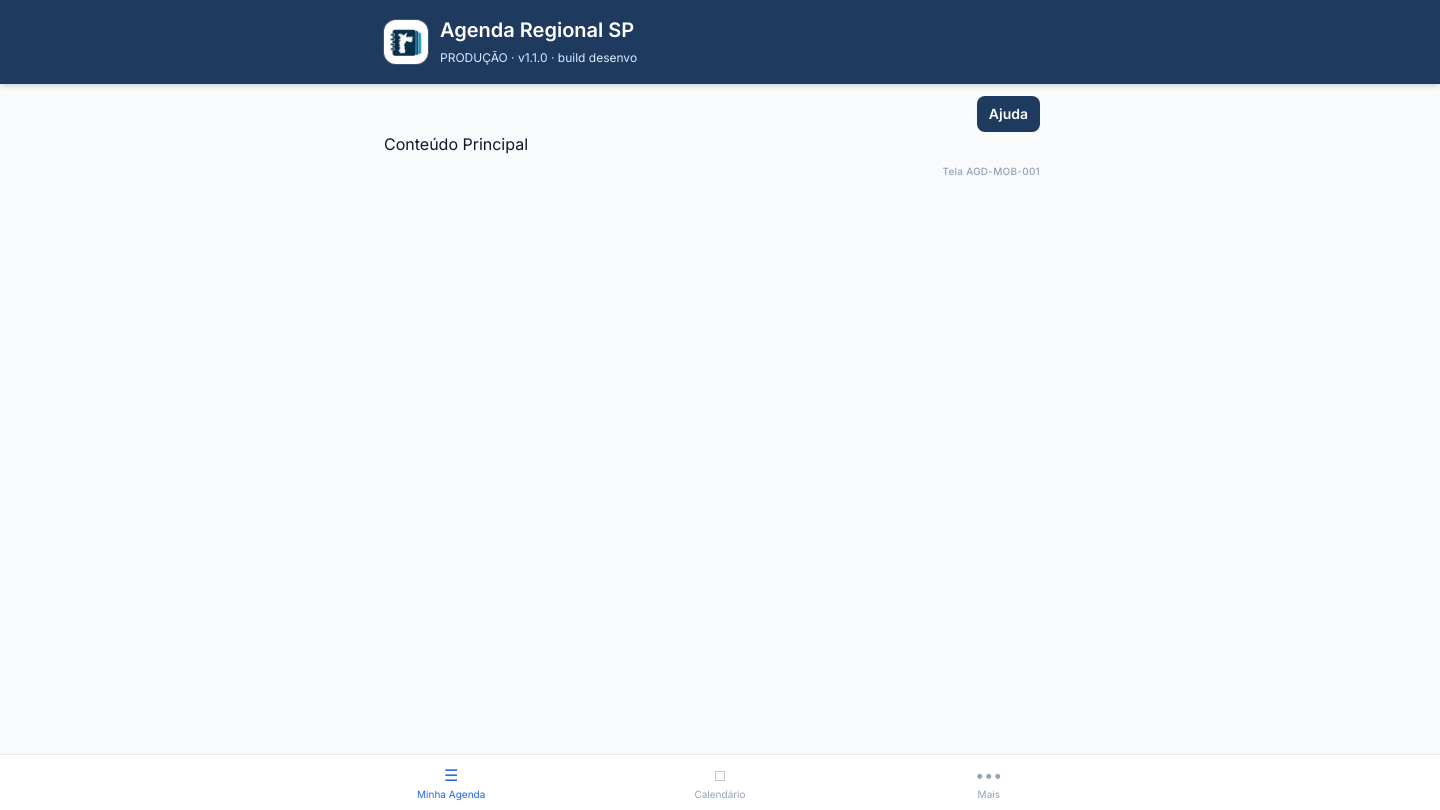
Test: Navegação e Visibilidade de Permissões — S12 Frontend › 1. Usuário comum (sem capacidades) NÃO vê Portaria, Relatórios nem Auditoria
The image size is (1440, 810).
Expected: the button "☰ Minha Agenda" is shown, [384,755,518,809]
Expected: the button "□ Calendário" is shown, [653,755,787,809]
Click the button "••• Mais" at (989, 782), box [922,755,1056,809]
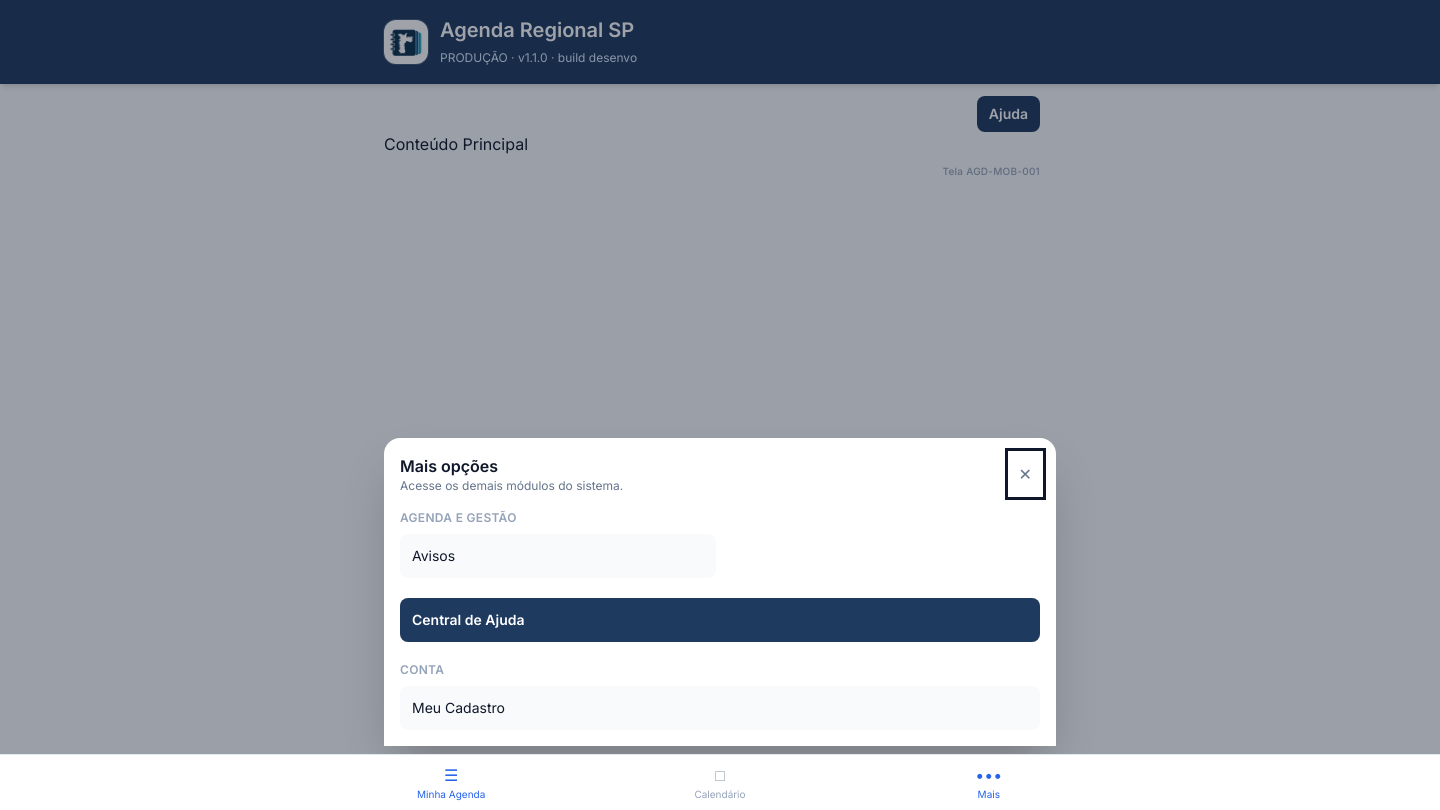
Expected: the button "Avisos" is shown, [400,534,716,578]
Expected: the button "Meu Cadastro" is shown, [400,686,1040,730]
